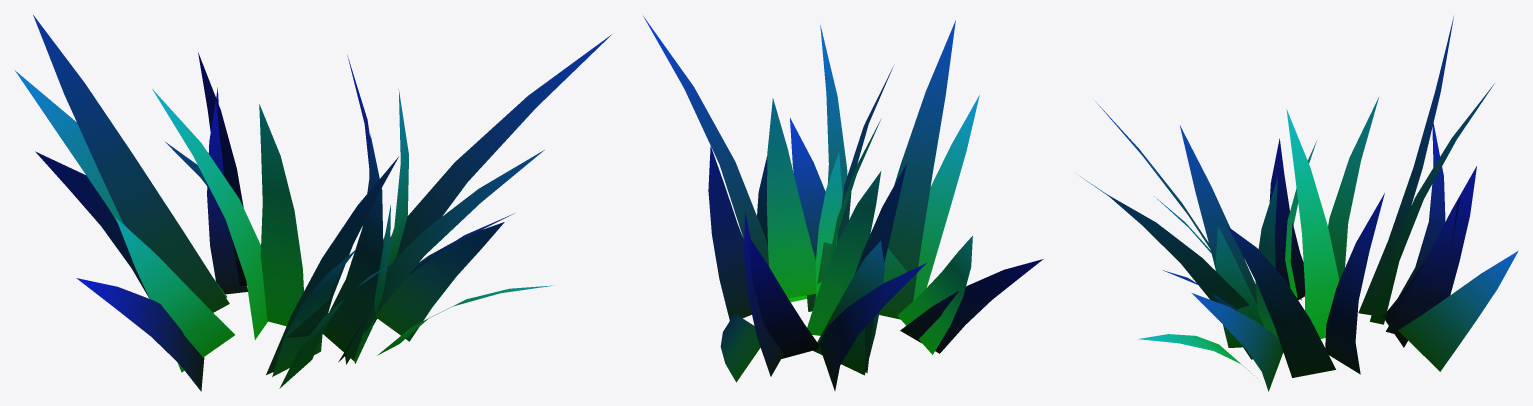
The model's file is Grass_Tuft_Short.fbx.
3 renders of one model, left to right at view 1: azimuth 30°, elevation 25°; view 2: azimuth 150°, elevation 25°; view 3: azimuth 270°, elevation 25°, orthographic. The views are drawn at different scales.
Parts seen in each view (by area): view 1: _exp_Grass_Tuft_Short; view 2: _exp_Grass_Tuft_Short; view 3: _exp_Grass_Tuft_Short.
Part boxes in pixels (x1,y1,x2,y2): _exp_Grass_Tuft_Short: (15,15,611,391); _exp_Grass_Tuft_Short: (643,16,1043,390); _exp_Grass_Tuft_Short: (1080,16,1518,391).
Bounding box in the file's own units: 34.76 × 20.84 × 31.17.
